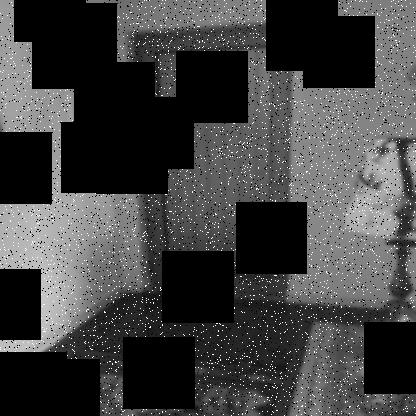Porte: (123, 17, 297, 301)
